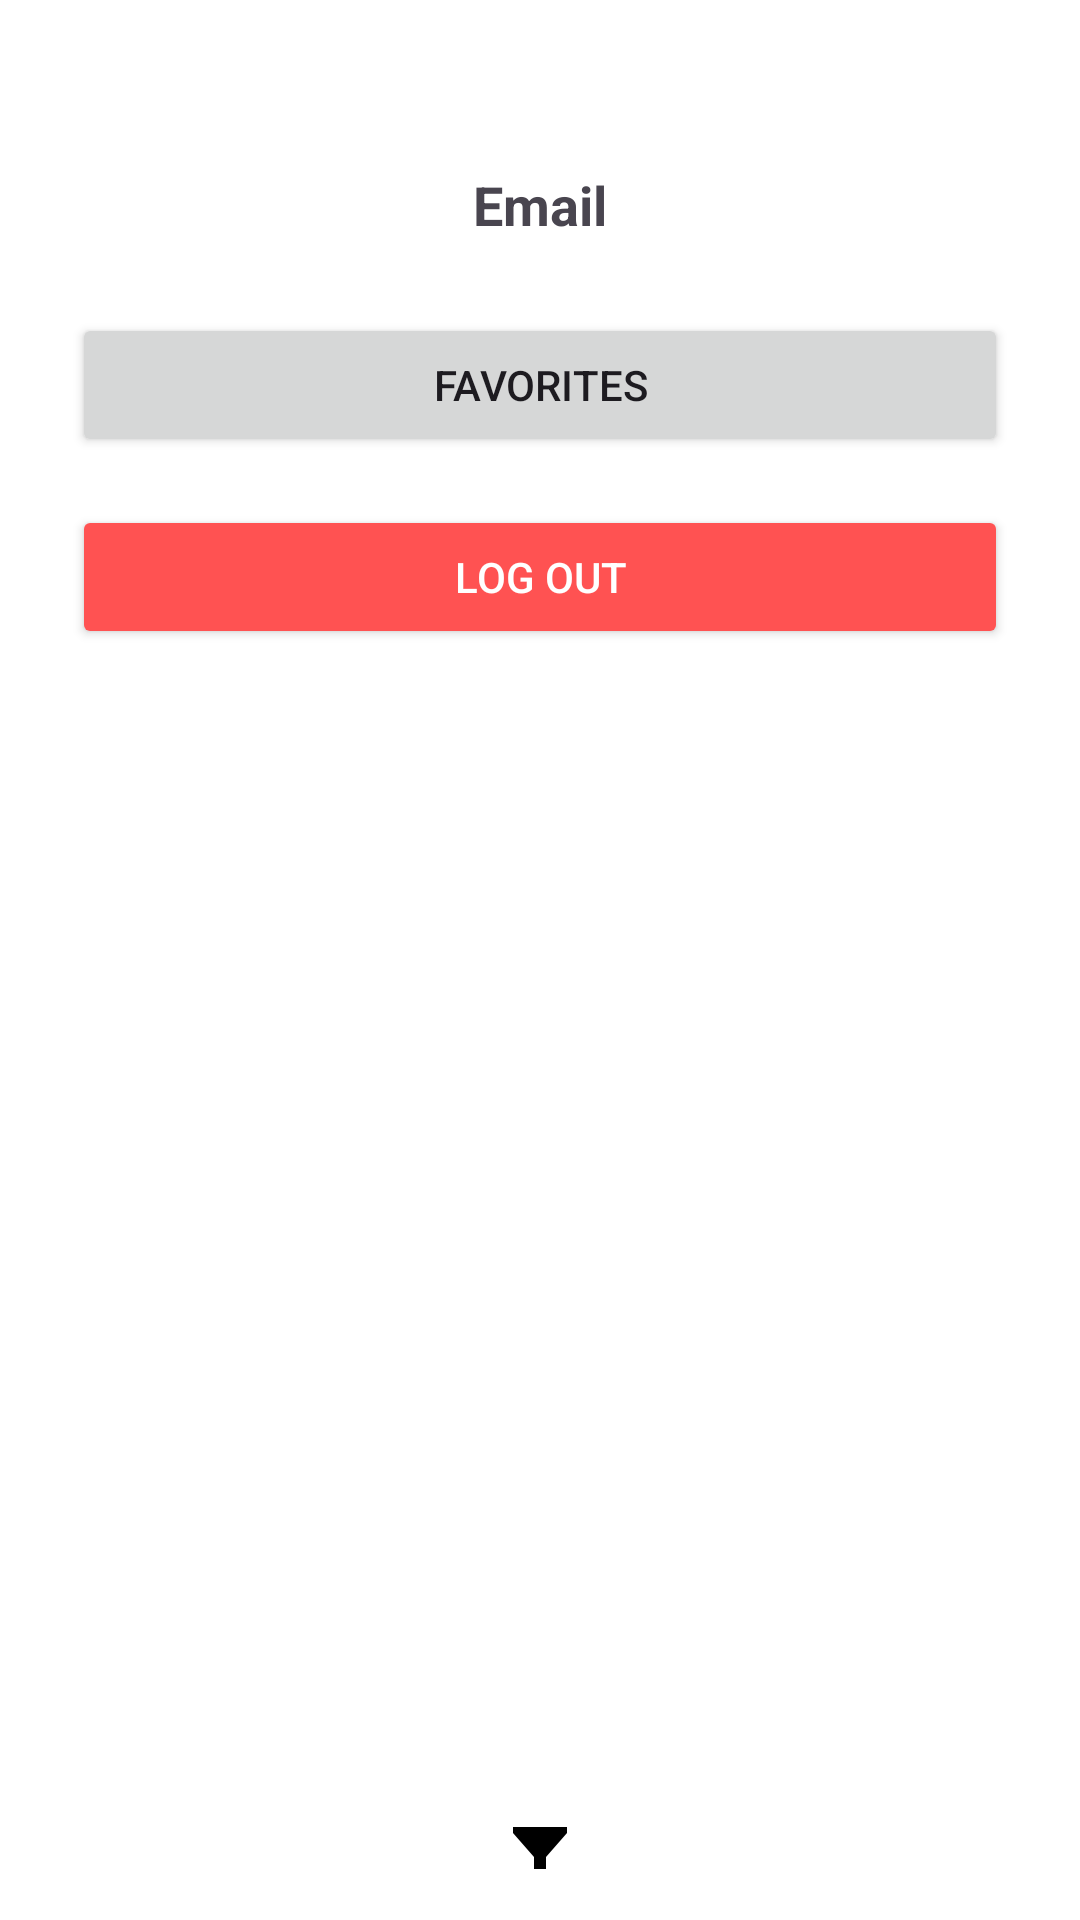

Point at icon controls on the screen. Image size 1080×1920, points as point (x, y).
Filter: point (540, 1848)
